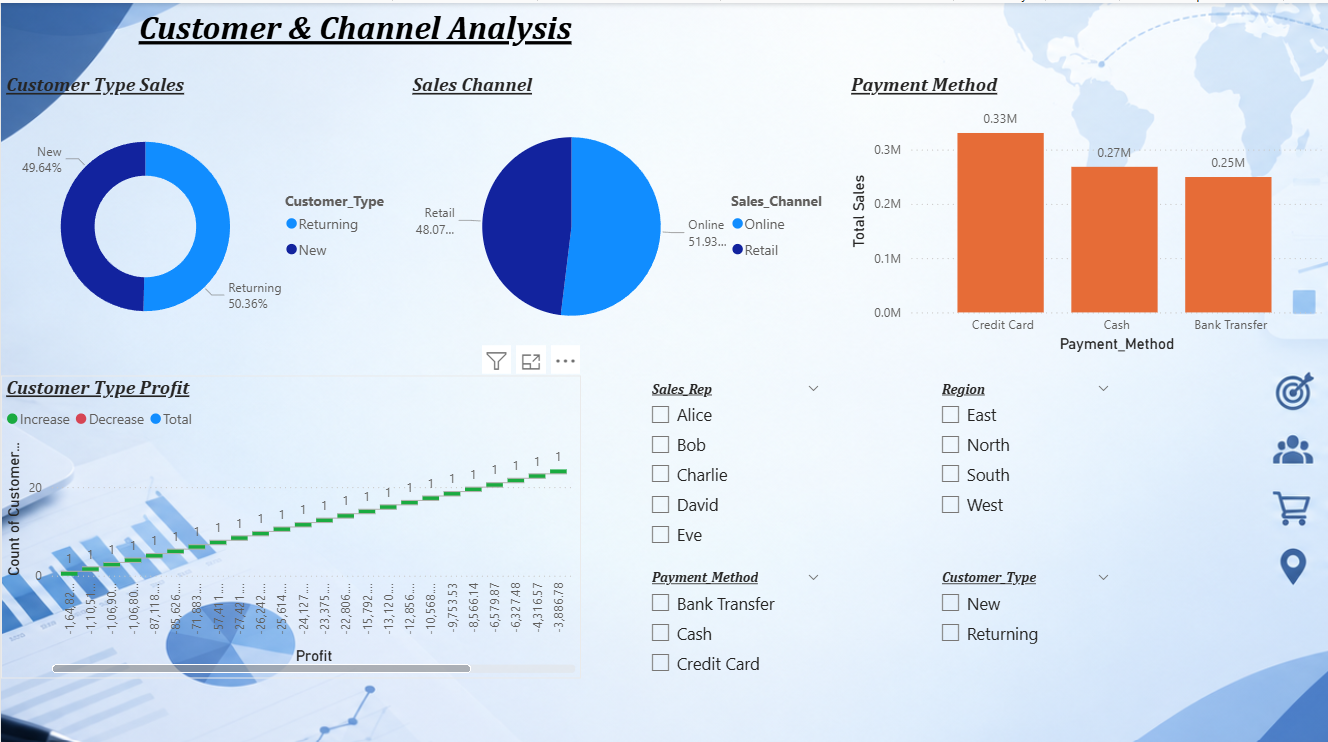

This screenshot's page, from the dashboard's own definition file:
{"tool":"powerbi","page":{"name":"Page 4","canvas":[1280,720],"ordinal":3},"visuals":[{"type":"textbox","box":[127.9,0,431.9,51.9],"z":0},{"type":"donutChart","title":"Customer Type Sales","fields":{"Y":["cleaned_sales_data.Total Sales"],"Category":["cleaned_sales_data.Customer_Type"]},"box":[0,67.6,392.1,275.1],"z":1},{"type":"pieChart","title":"Sales Channel","fields":{"Y":["cleaned_sales_data.Total Sales"],"Category":["cleaned_sales_data.Sales_Channel"]},"box":[392.1,67.6,423.5,275.1],"z":2},{"type":"clusteredColumnChart","title":"Payment Method","fields":{"Y":["cleaned_sales_data.Total Sales"],"Category":["cleaned_sales_data.Payment_Method"]},"box":[815.6,67.6,464.5,275.1],"z":3},{"type":"waterfallChart","title":"Customer Type Profit","fields":{"Category":["cleaned_sales_data.Profit"],"Y":["CountNonNull(cleaned_sales_data.Customer_Type)"]},"box":[0,359.5,559.8,292],"z":4},{"type":"slicer","fields":{"Values":["cleaned_sales_data.Sales_Rep"]},"box":[615.3,359.5,187,178.6],"z":5},{"type":"slicer","fields":{"Values":["cleaned_sales_data.Region"]},"box":[895.2,359.5,187,178.6],"z":6},{"type":"slicer","fields":{"Values":["cleaned_sales_data.Customer_Type"]},"box":[895.2,541.7,187,178.6],"z":7},{"type":"slicer","fields":{"Values":["cleaned_sales_data.Payment_Method"]},"box":[615.3,541.7,187,178.6],"z":8}]}

Visuals, with their boxes in screenshot pixels (x1, y1, x2, y2), scaled from the page's 1280x720 canvas onto the 1328x742 screenshot:
textbox: rect(133, 0, 581, 53)
"Customer Type Sales" donutChart: rect(0, 70, 407, 353)
"Sales Channel" pieChart: rect(407, 70, 846, 353)
"Payment Method" clusteredColumnChart: rect(846, 70, 1327, 353)
"Customer Type Profit" waterfallChart: rect(0, 370, 581, 671)
slicer - cleaned_sales_data.Sales_Rep: rect(638, 370, 832, 555)
slicer - cleaned_sales_data.Region: rect(929, 370, 1123, 555)
slicer - cleaned_sales_data.Customer_Type: rect(929, 558, 1123, 741)
slicer - cleaned_sales_data.Payment_Method: rect(638, 558, 832, 741)
